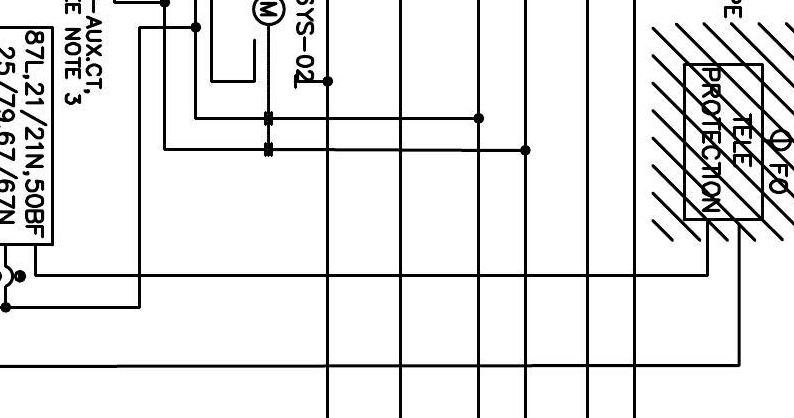tele_protection: (680, 60, 767, 224)
